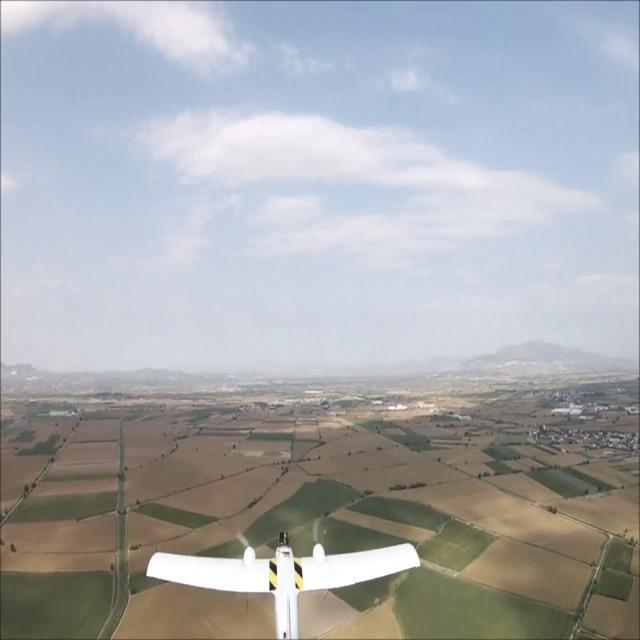iha: (141, 556, 423, 601)
